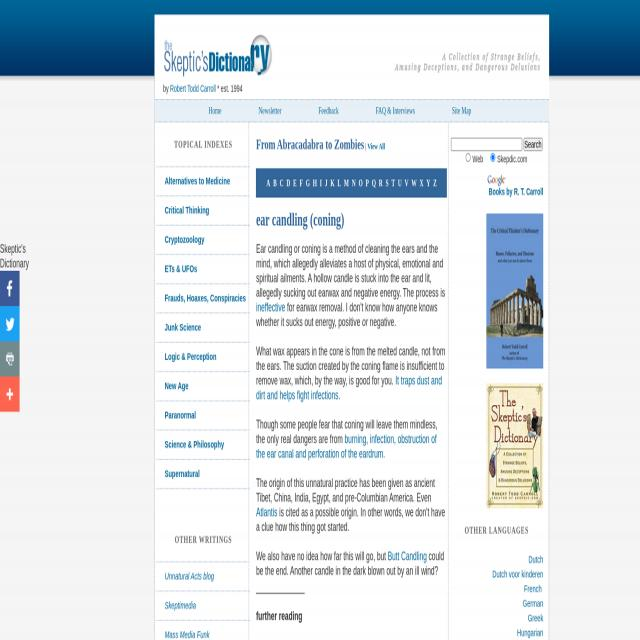button: (486, 214, 544, 368), (486, 384, 544, 508), (163, 33, 273, 77), (0, 376, 19, 412), (0, 272, 20, 306), (0, 307, 19, 341), (0, 342, 19, 376), (524, 137, 542, 151), (487, 174, 506, 187)
field: (451, 137, 522, 151), (490, 152, 496, 162), (466, 152, 471, 162)
